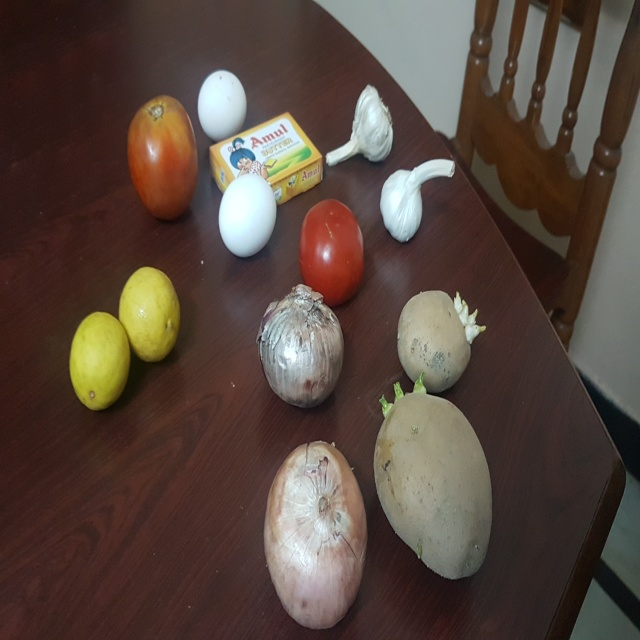butter: (209, 110, 325, 215)
eggs: (213, 171, 284, 260), (195, 66, 256, 148)
garlic: (378, 156, 455, 243), (324, 81, 396, 171)
lemon: (69, 310, 134, 407), (119, 266, 181, 363)
onion: (263, 442, 369, 627), (257, 287, 352, 410)
potato: (372, 379, 501, 583), (395, 288, 488, 397)
tomato: (119, 93, 204, 224), (298, 192, 371, 310)
